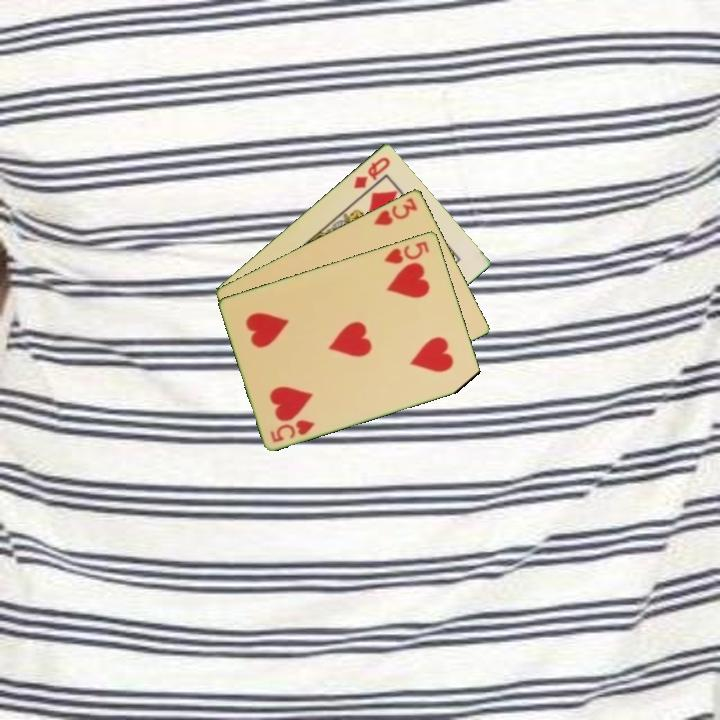3h: (370, 193, 421, 228)
5h: (381, 237, 432, 267), (267, 416, 318, 445)
Qd: (350, 153, 393, 191)
